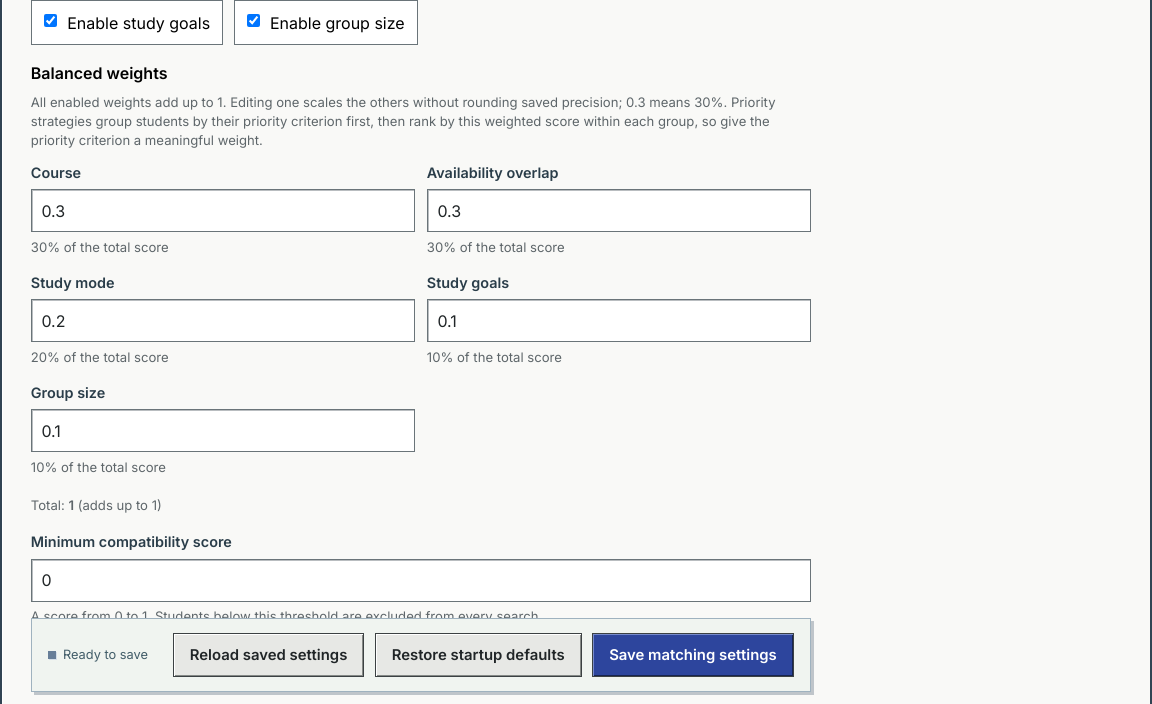
Test: admin matching settings › rejects a blank, negative or above-1 weight next to its field without saving
(page scrolled)
Replace the text in the number field labelled "Study mode" with "-1" at (223, 321), box 31,300 -> 415,342
(page scrolled)
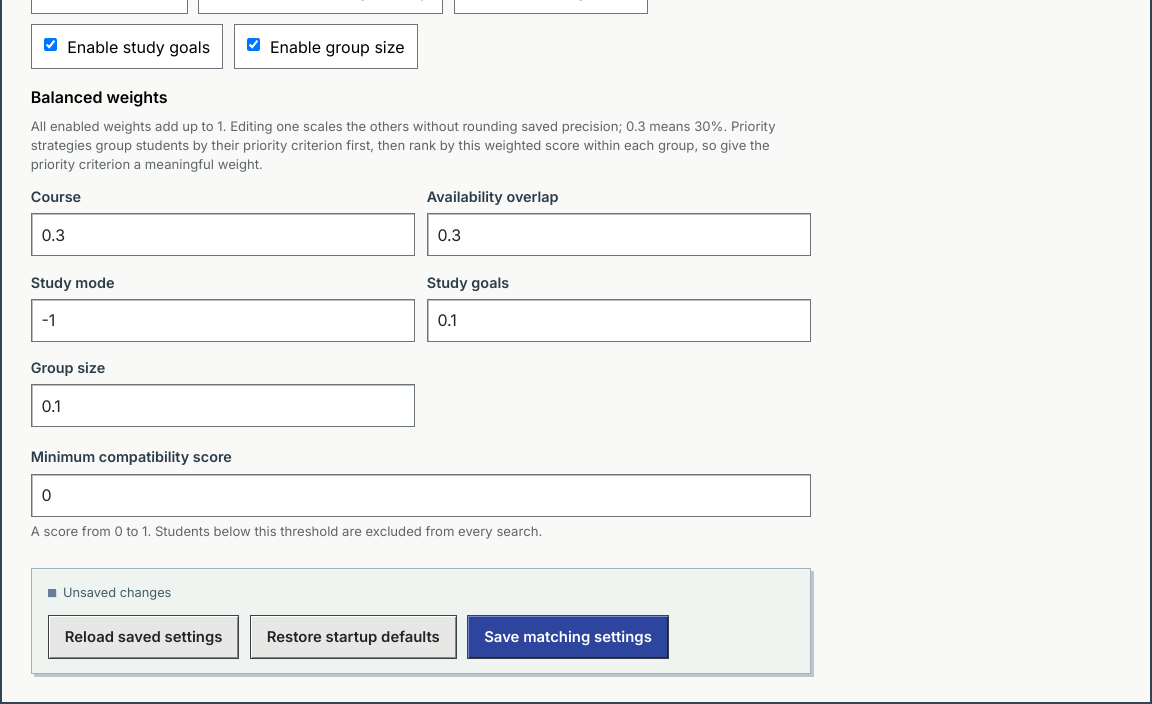
Clear the number field labelled "Group size" at (223, 406), box 31,384 -> 415,427
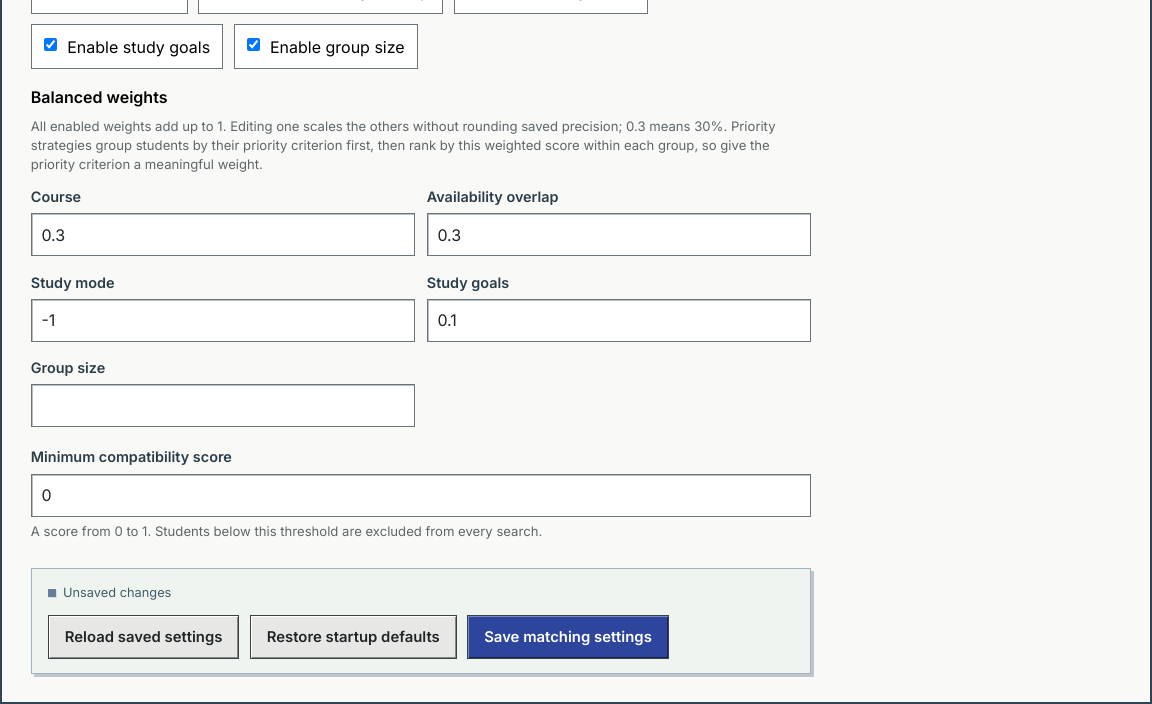
Replace the text in the number field labelled "Course" with "10" at (223, 235), box 31,214 -> 415,256
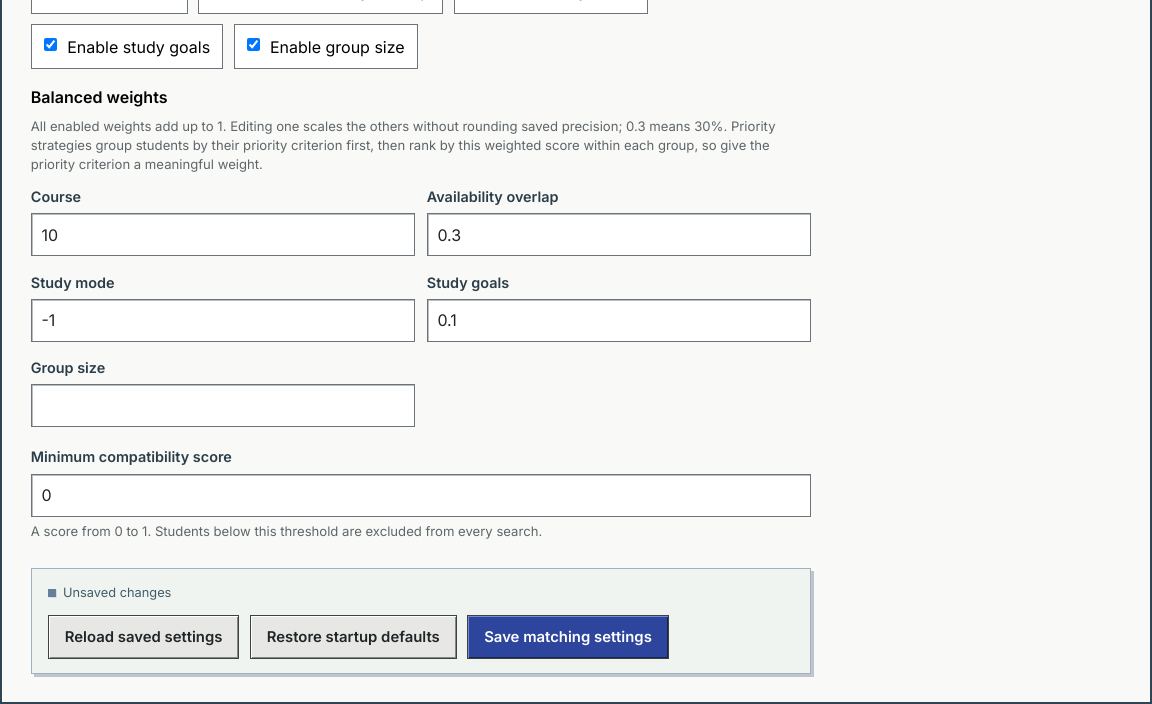
Click the button "Save matching settings" at (568, 637), box 467,615 -> 669,659
(page scrolled)
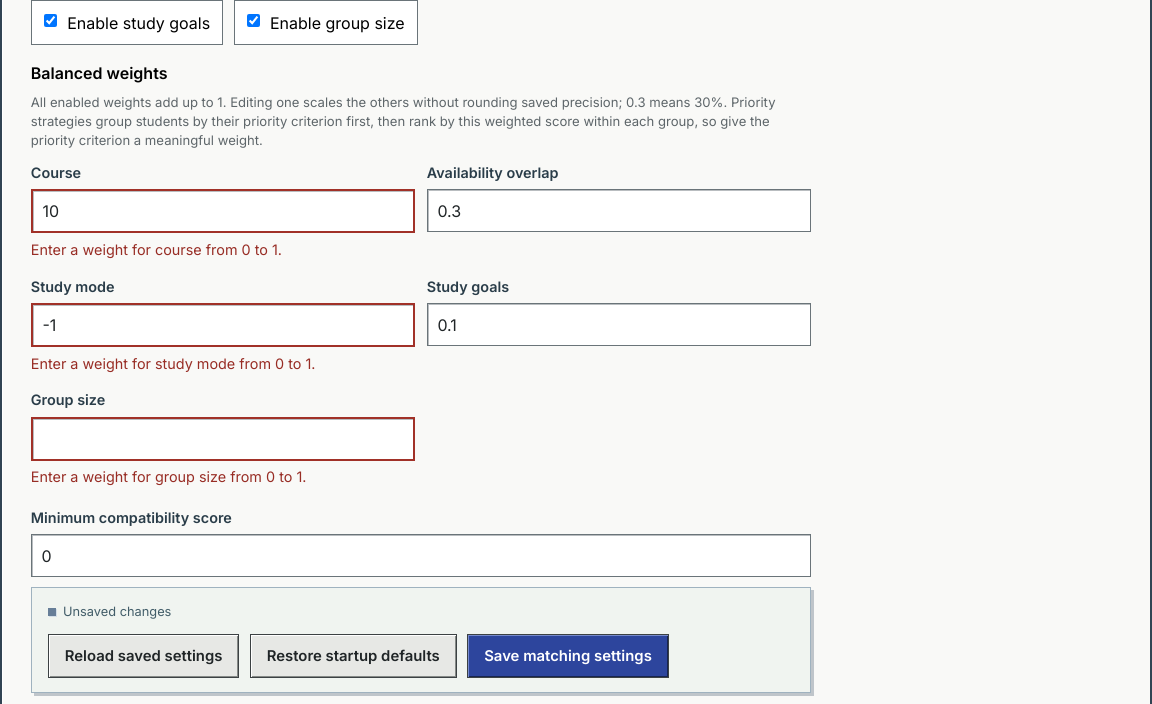
Check: the text "Enter a weight for study mode from 0 to 1." is shown, box 31,355 -> 316,372
Check: the text "Enter a weight for group size from 0 to 1." is shown, box 31,468 -> 306,485
Check: the text "Enter a weight for course from 0 to 1." is shown, box 31,241 -> 282,258
